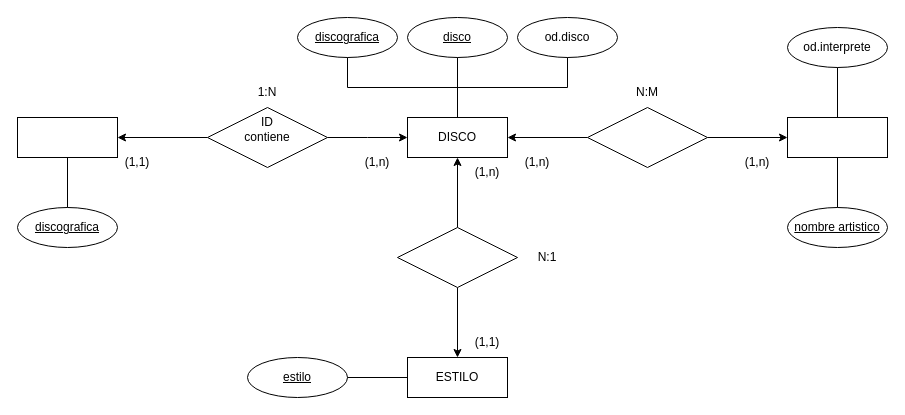
Image size: 905x415. Some labels were removed from this diagram. Here are the shapes that lost their labels. From the top down, the centre of each, then its label:
At [67,137]: "DISCOGRÁFICA".
At [647,137]: "pertenece".
At [837,137]: "INTERPRETE".
At [457,257]: "es de un".
